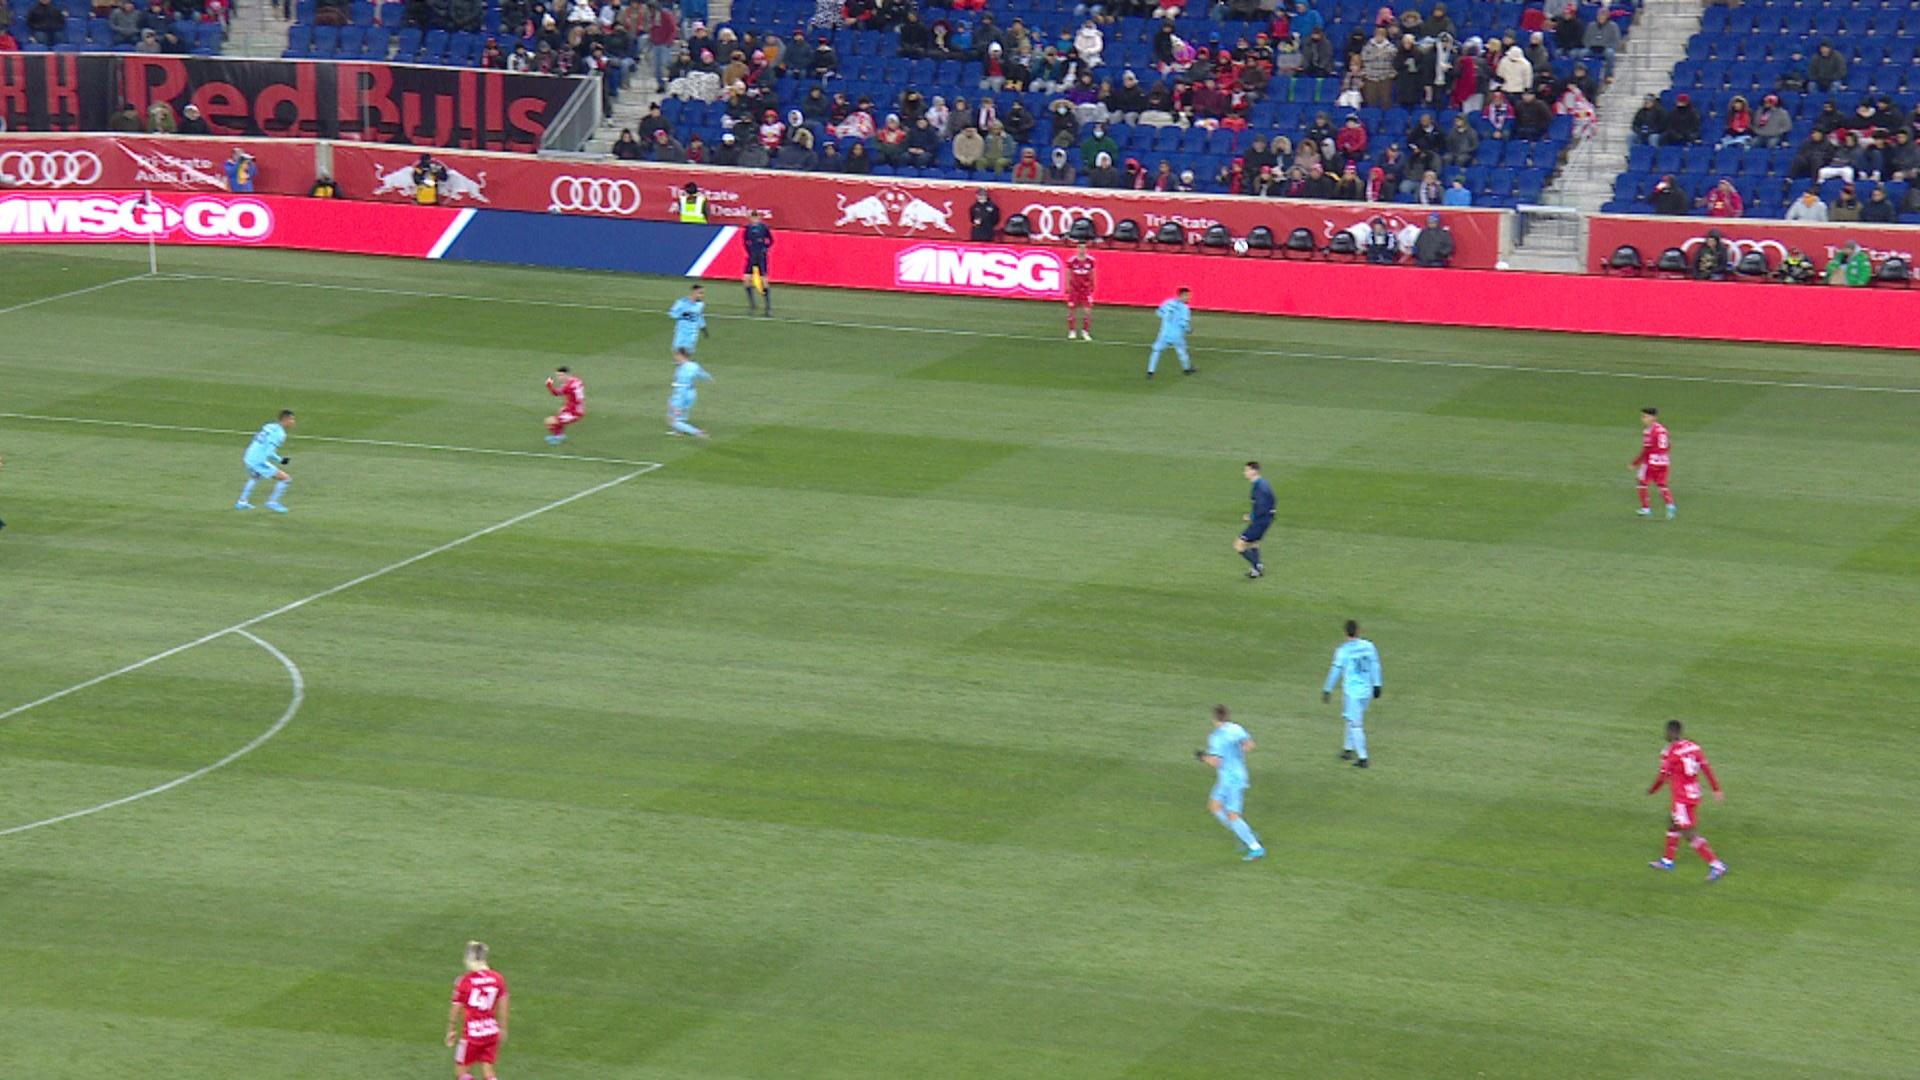football: (1234, 241, 1247, 253)
